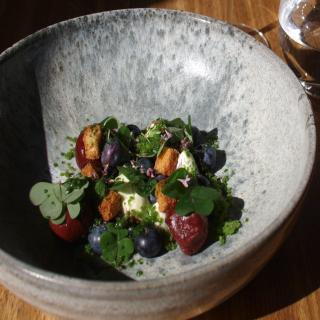Salad: (29, 114, 240, 264)
